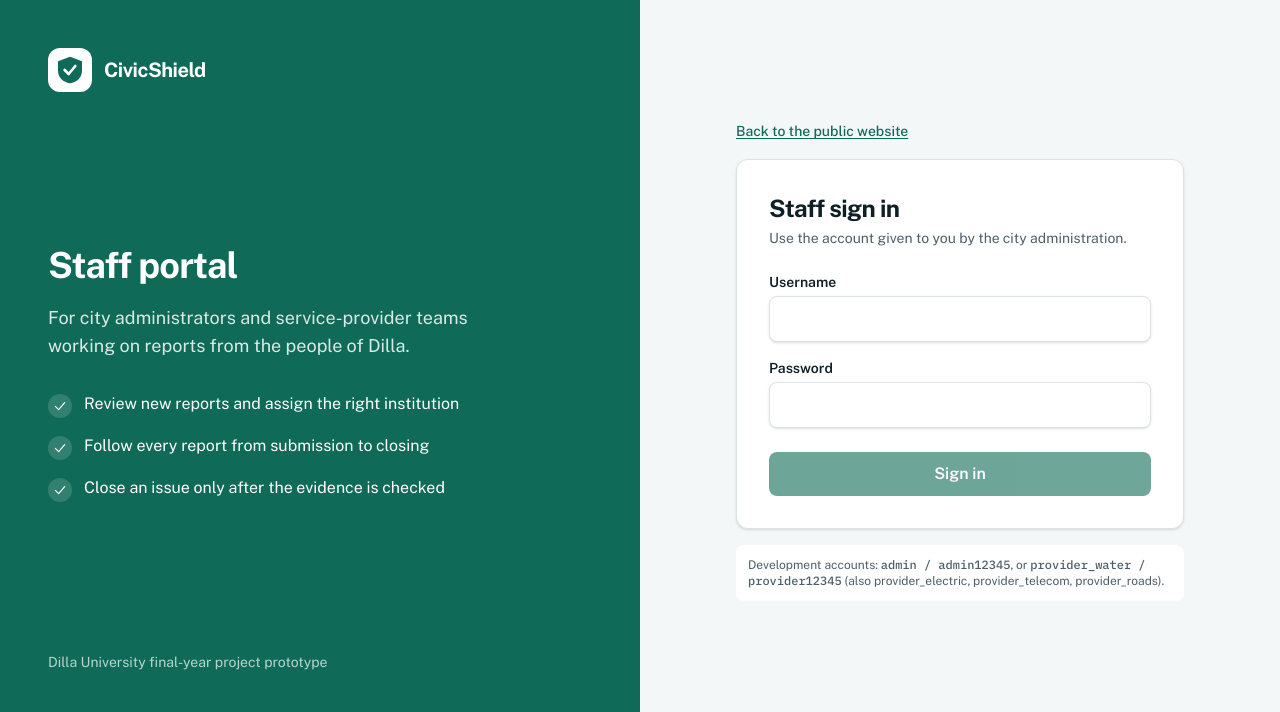
staff flow › takes a report from submitted to closed and lets the citizen rate it
This screenshot has width=1280, height=712.
Later steps or results of the test are not shown.
In the field labelled "Username": (960, 319) [769,296,1151,342], type "admin"
In the password field labelled "Password": (960, 405) [769,382,1151,428], type "admin12345"
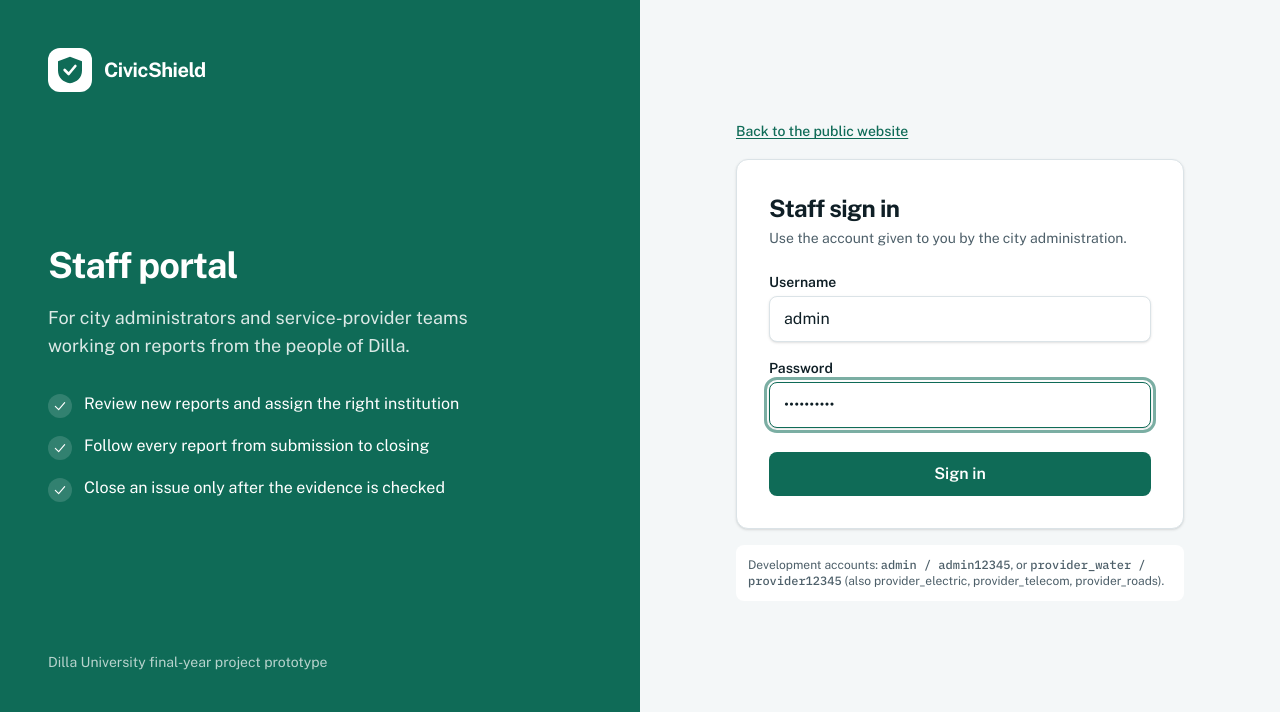
Click the button "Sign in": click(960, 474) [769,452,1151,496]
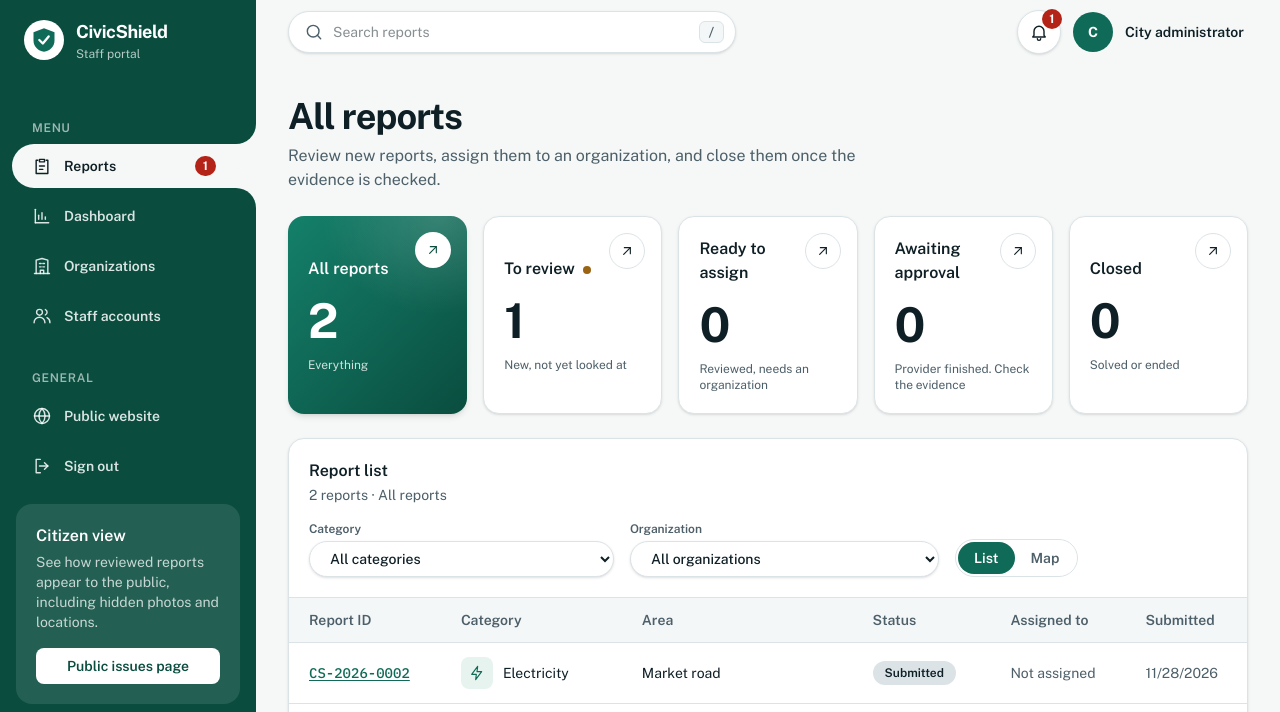
Click the link "CS-2026-0002": click(359, 673) [309,664,410,682]
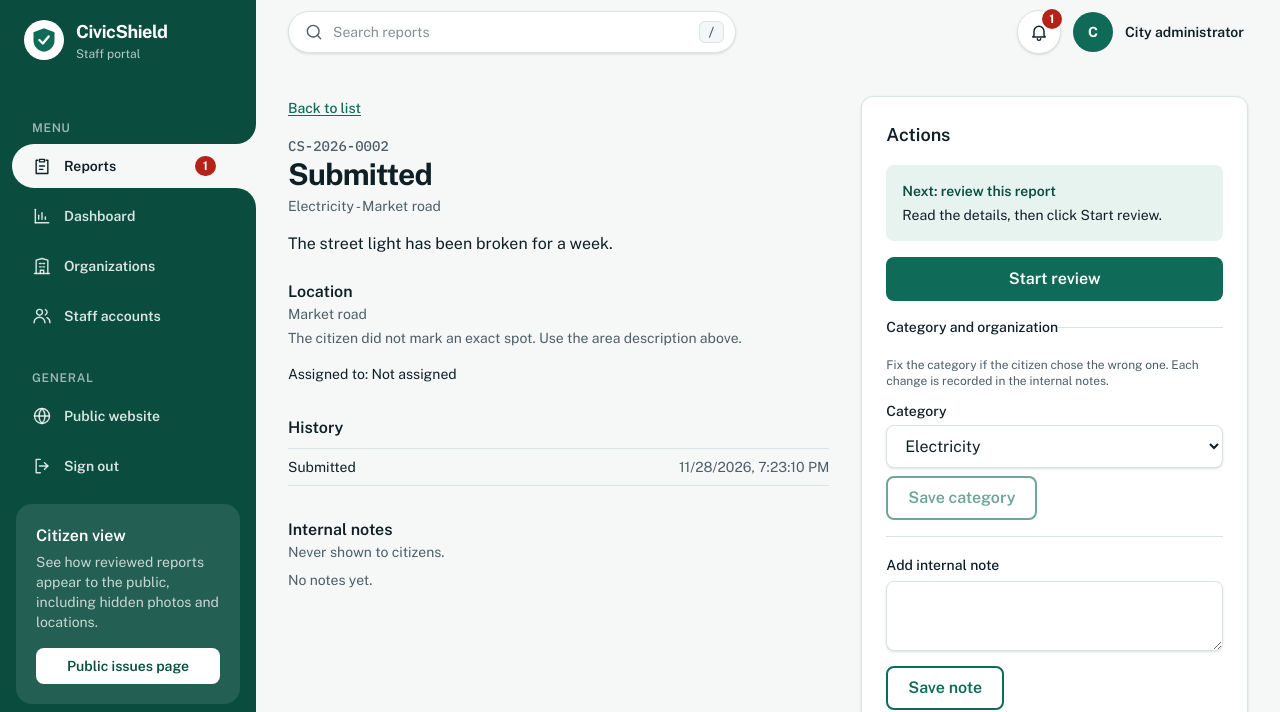
Click the button "Start review": click(1055, 279) [886,257,1223,301]
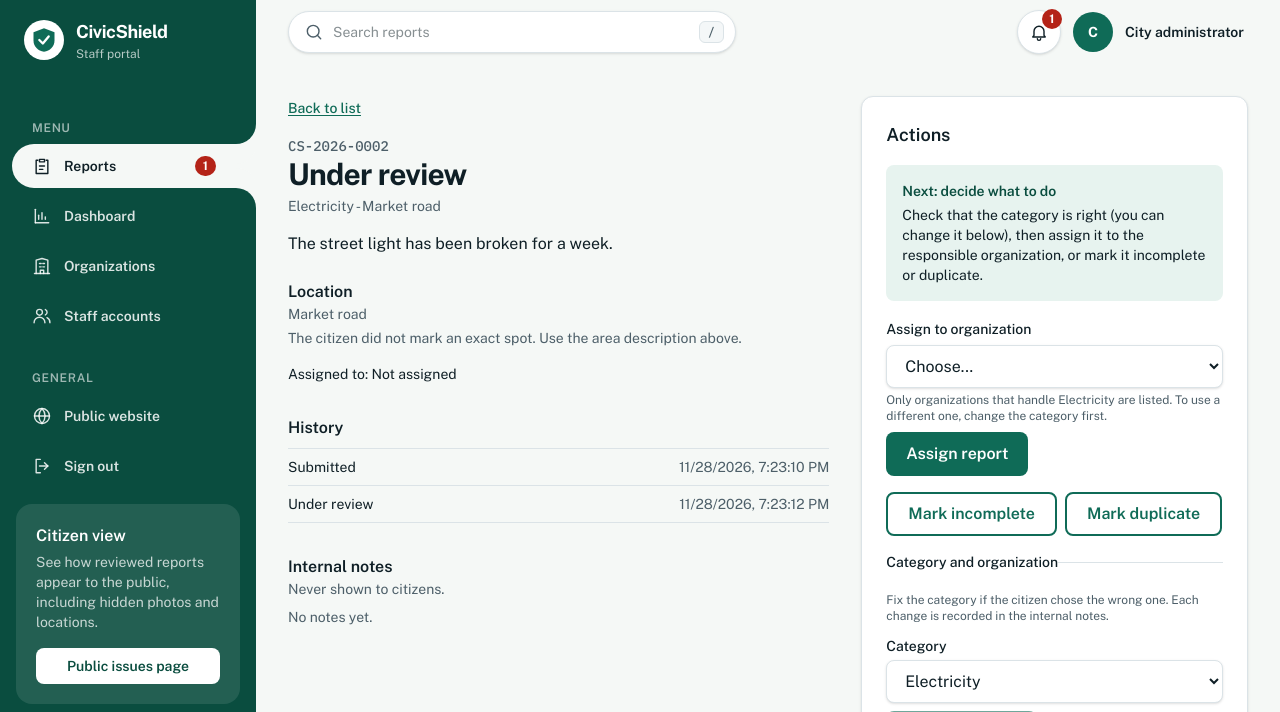
Select "Electric utility (sample)" in the dropdown labelled "Assign to organization": (1055, 366) [886,345,1223,388]
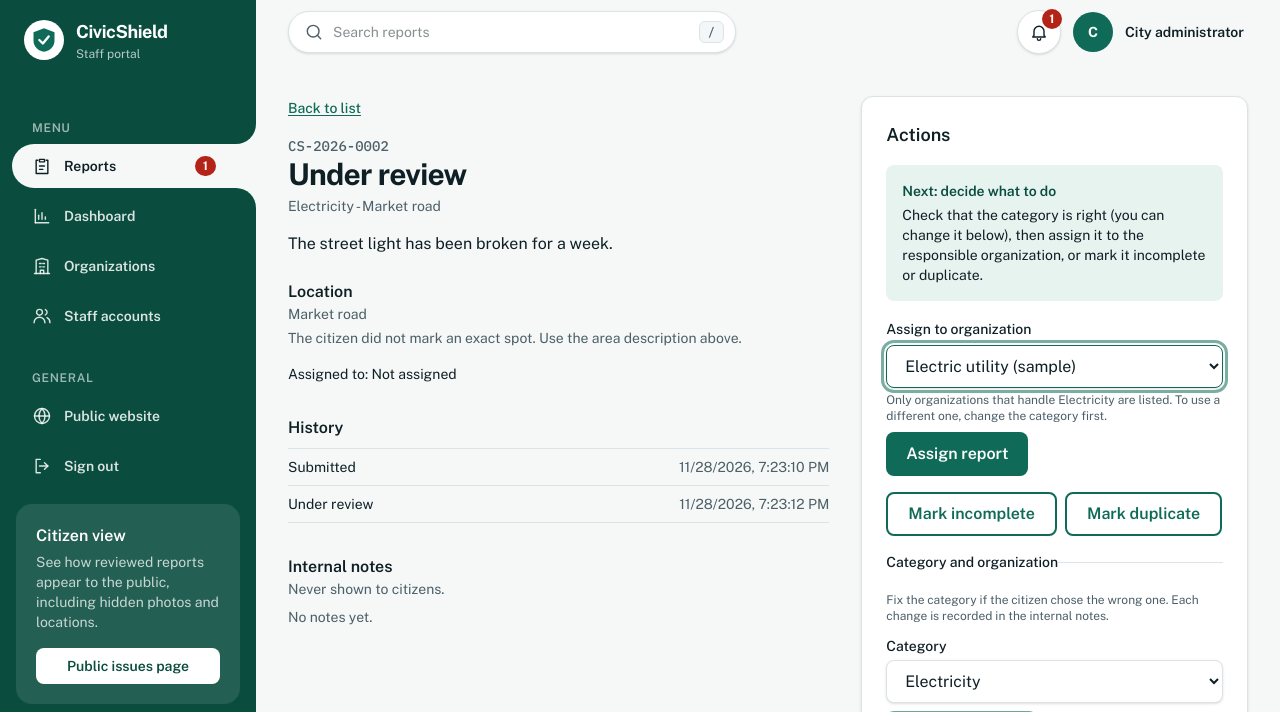
Click the button "Assign report": click(957, 454) [886,432,1028,476]
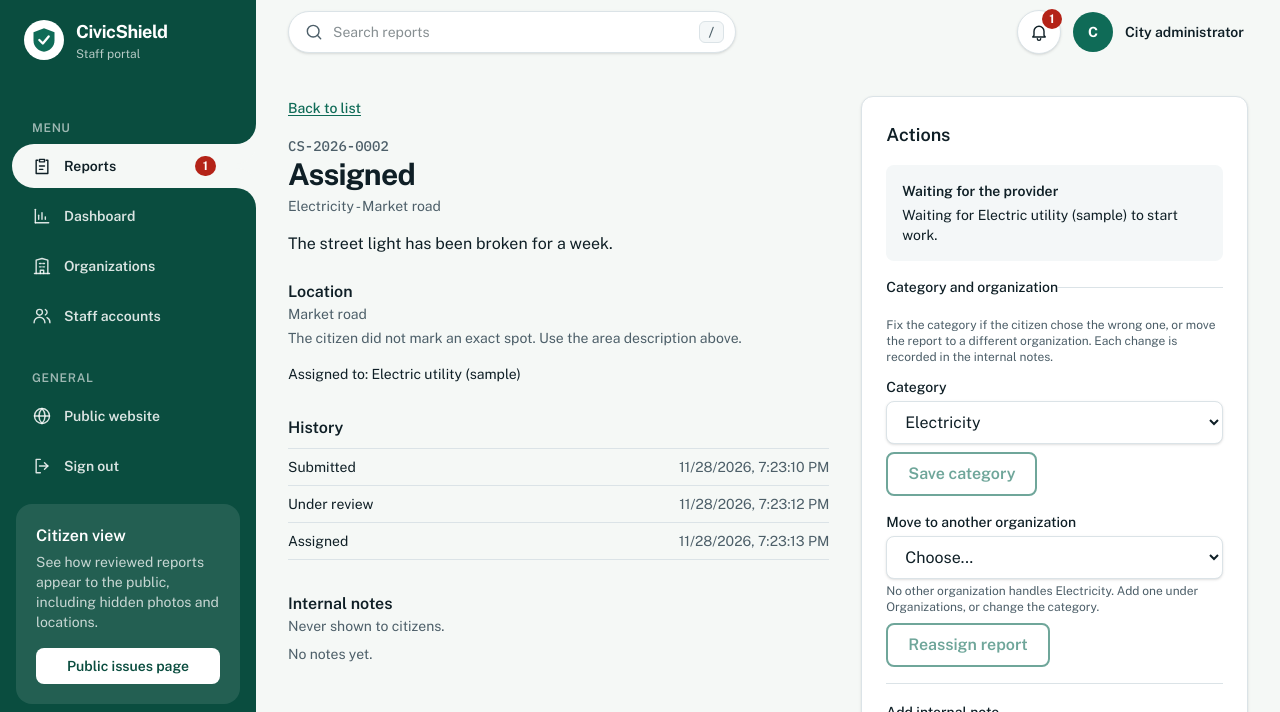
Now the heading "Assigned" is shown, box [288,156,415,192]
Now the text "Assigned to: Electric utility (sample)" is shown, box [288,366,521,382]
